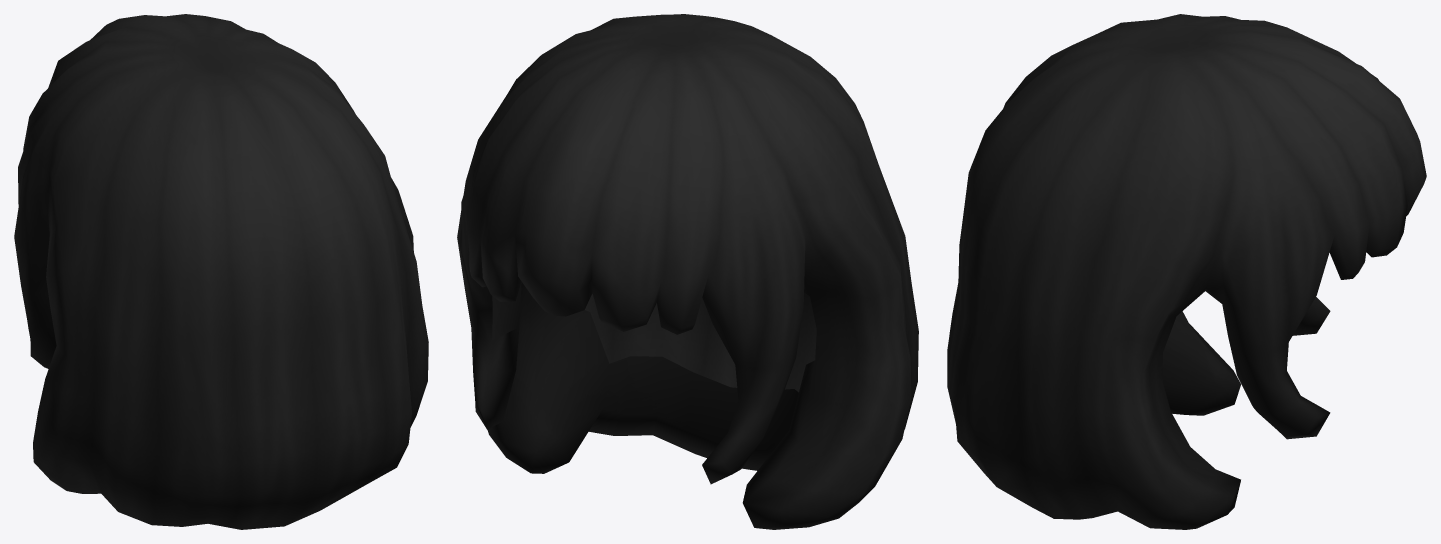
File: Hair_Female_001_textured_black.glb
3 renders of one model, left to right at view 1: azimuth 30°, elevation 25°; view 2: azimuth 150°, elevation 25°; view 3: azimuth 270°, elevation 25°, orthographic. The views are drawn at different scales.
Parts seen in each view (by area): view 1: Hair_Female_001; view 2: Hair_Female_001; view 3: Hair_Female_001.
Part boxes in pixels (x1,y1,x2,y2): Hair_Female_001: (14,14,428,529); Hair_Female_001: (457,14,918,529); Hair_Female_001: (947,14,1426,529).
Size of the model in its own units: 0.2205 by 0.2446 by 0.236.
1 material, 1 textured.
